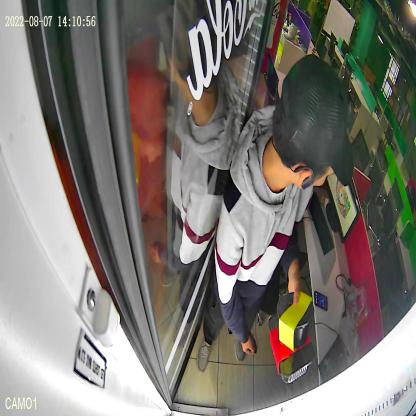red: (268, 312, 316, 384)
yellow: (276, 291, 314, 351)
